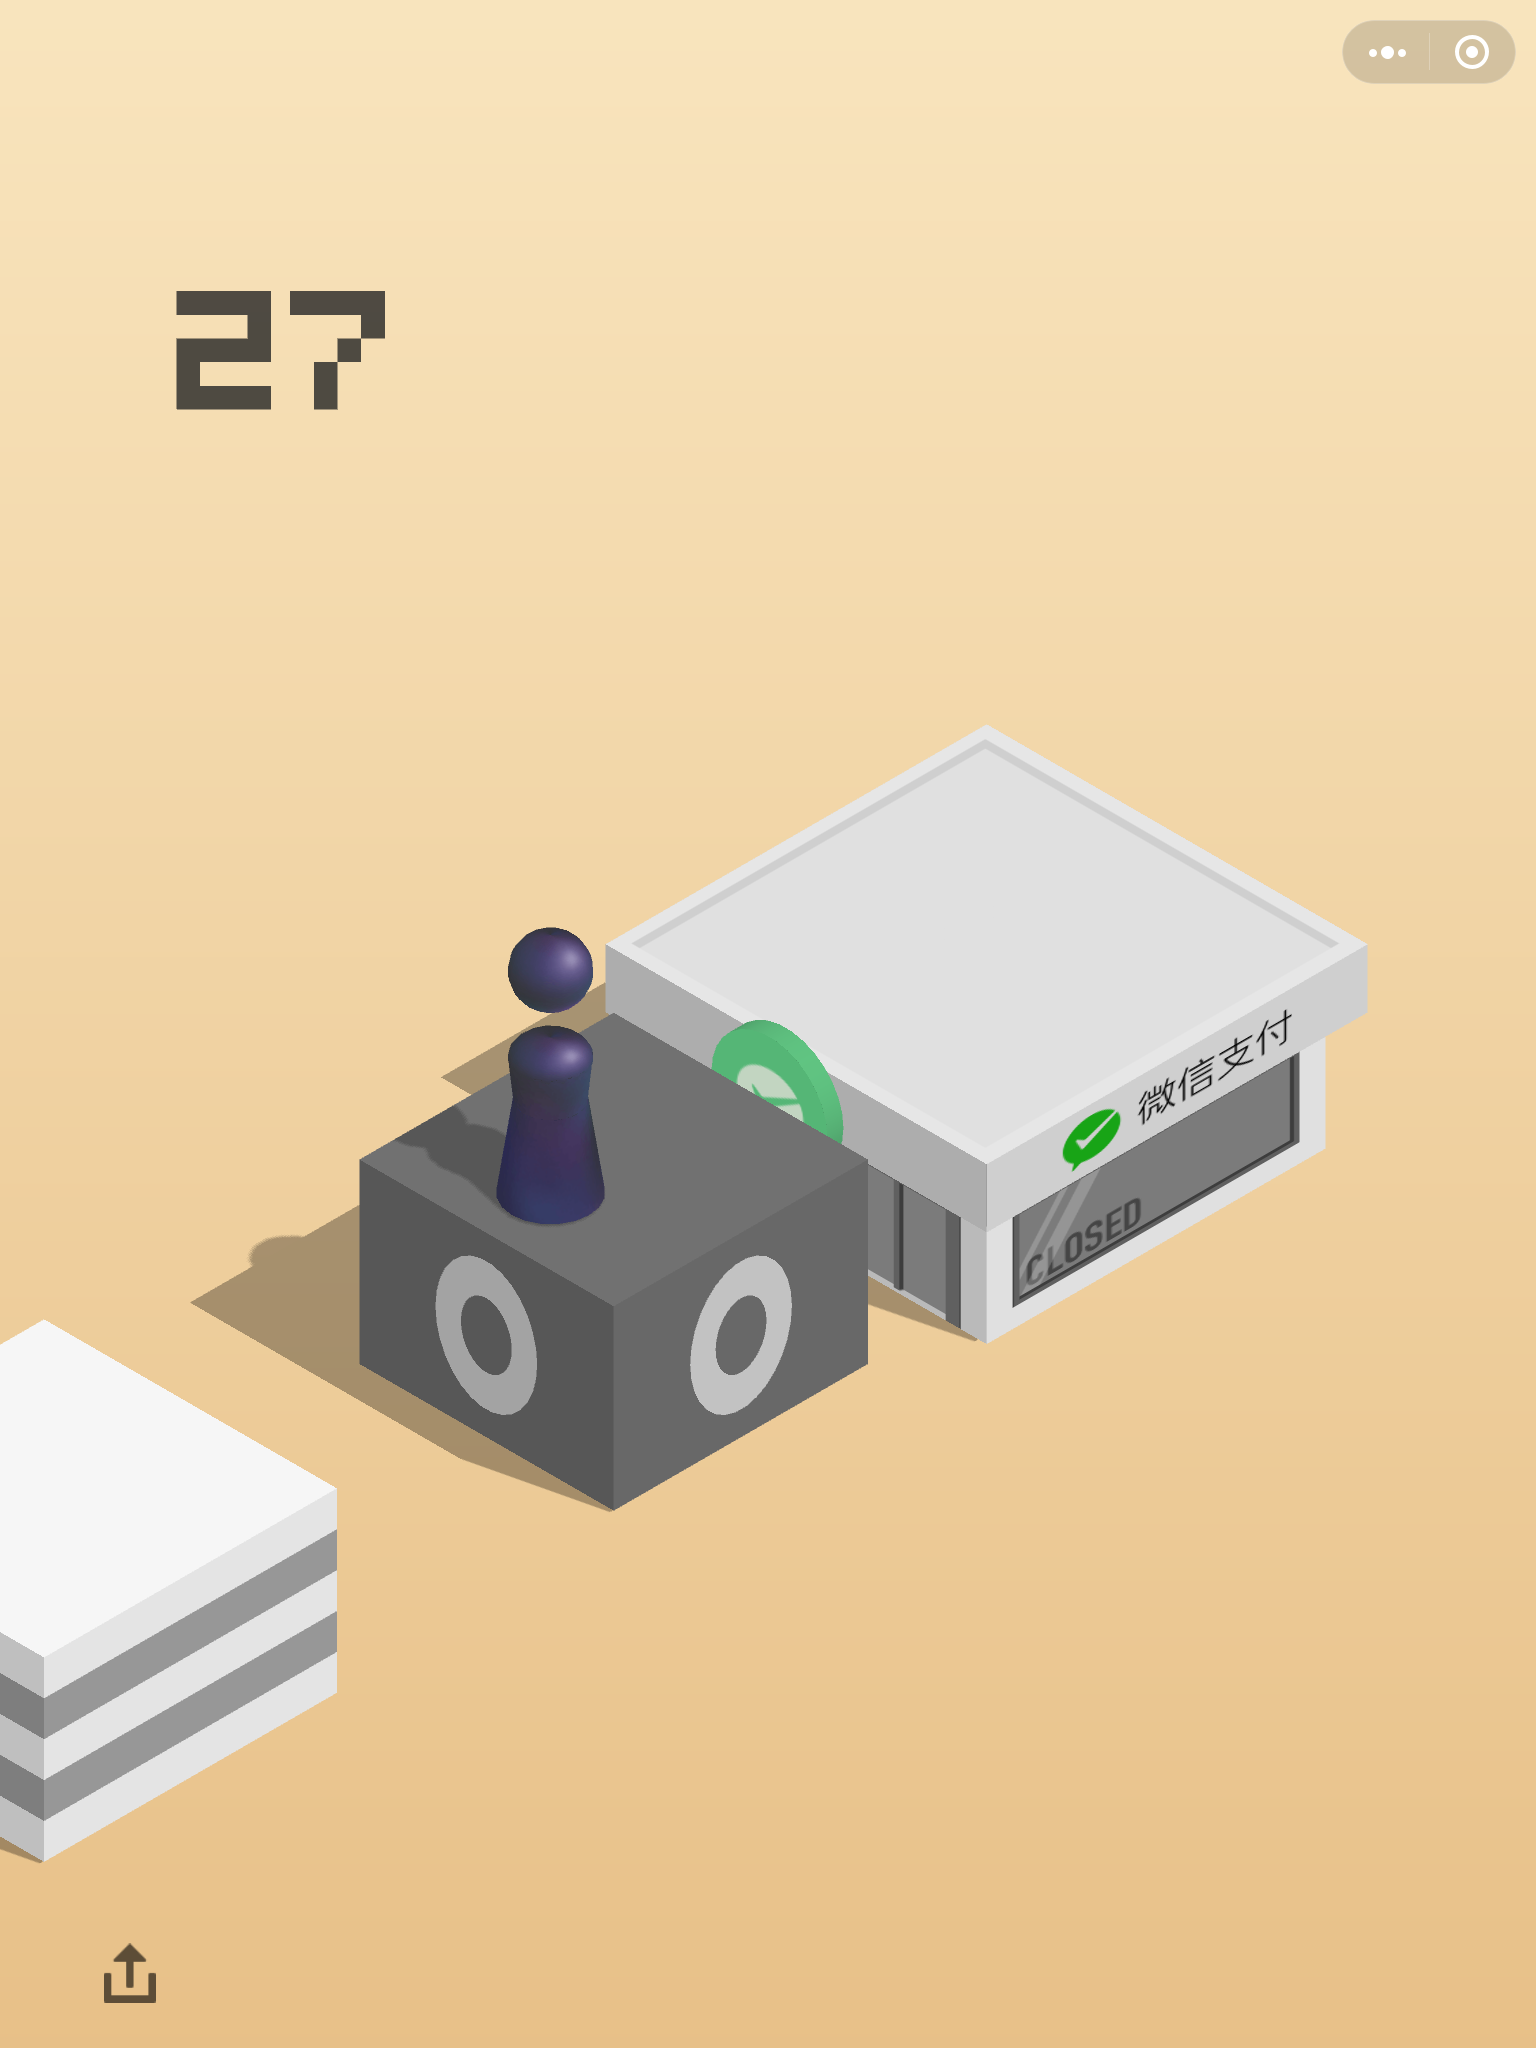f: (603, 714, 1375, 1342), (352, 1009, 881, 1519), (2, 1313, 349, 1866)
r: (490, 919, 620, 1238)
